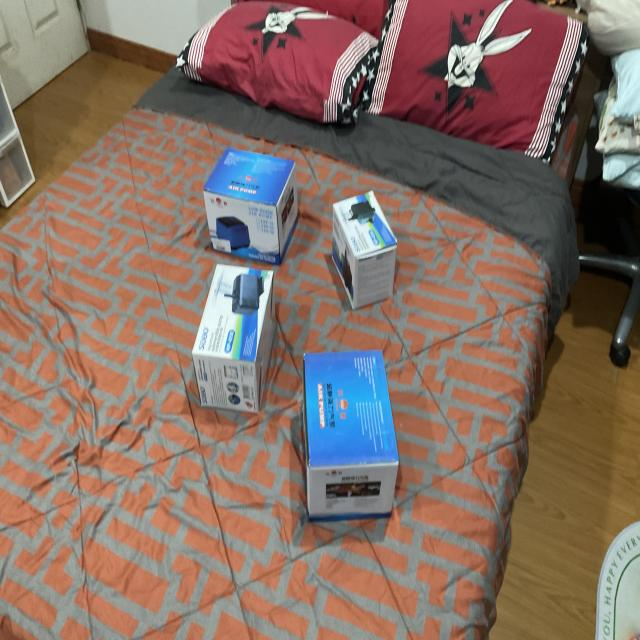SOBO_WP_4200: (188, 254, 288, 412), (323, 185, 410, 320)
YAMANO_LPP_20: (293, 339, 416, 536), (199, 140, 309, 284)
